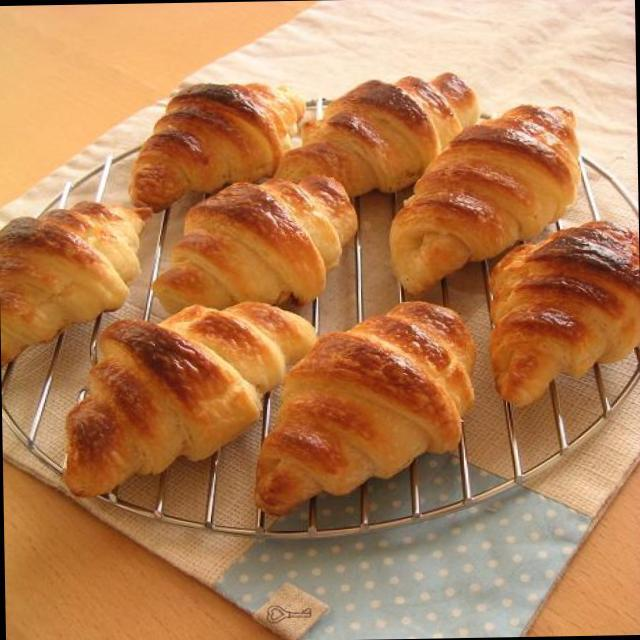Croissant: (251, 295, 477, 506)
